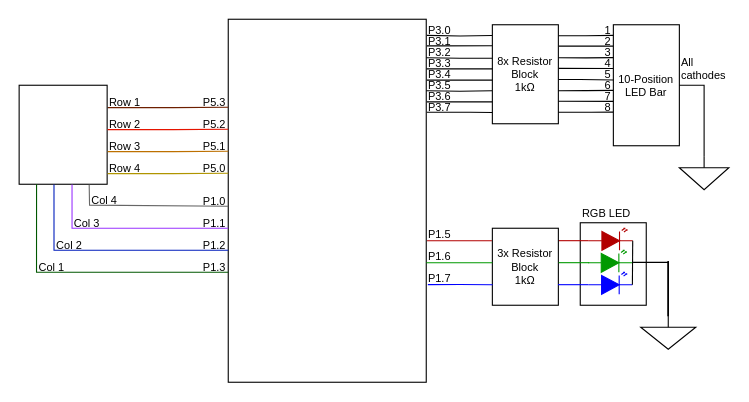
Some shapes in this 749 by 402 pixel diagram are drawn without their labels. Each missing label, with the centre of its shape:
Keypad 1 2 3 A 4 5 6 B 7 8 9 C * 0 # D: point (62, 134)
MSP430FR2355 Microcontroller: point (326, 200)
